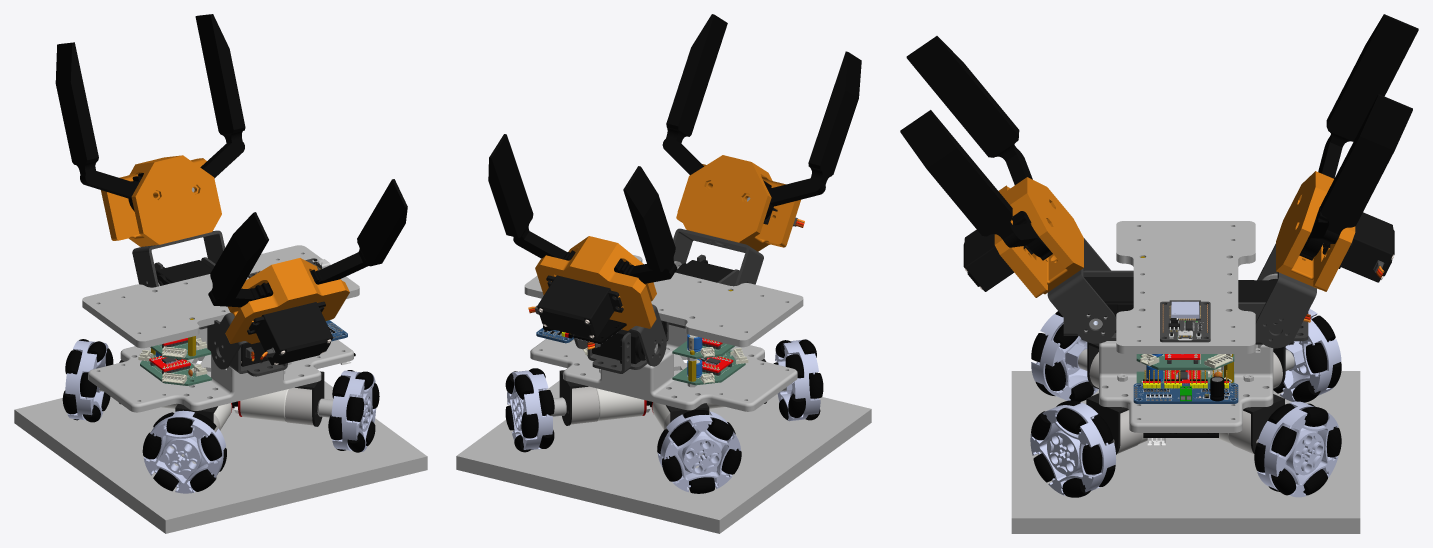
Rendered from robot_transporter.glb.
The picture shows the model from 3 angles, left to right: view 1: azimuth 30°, elevation 25°; view 2: azimuth 150°, elevation 25°; view 3: azimuth 270°, elevation 25°; orthographic projection. The views are drawn at different scales.
Visible parts, largest first — view 1: Solid1 (×19), Solid2, Solid12, Solid3; view 2: Solid1 (×20), Solid2, Solid12, Solid3; view 3: Solid1 (×23), Solid2 (×2).
Boxes of the visible parts, x1,y1,x2,y2 form: Solid1 (×19): (14,14,427,533); Solid2: (268,330,333,365); Solid12: (285,387,313,425); Solid3: (247,301,325,334); Solid1 (×20): (456,14,871,533); Solid2: (537,300,600,338); Solid12: (570,386,599,424); Solid3: (546,275,623,312); Solid1 (×23): (900,14,1418,533); Solid2 (×2): (963,221,1394,291).
Bounding box in the file's own units: 0.2 × 0.26 × 0.2974.
